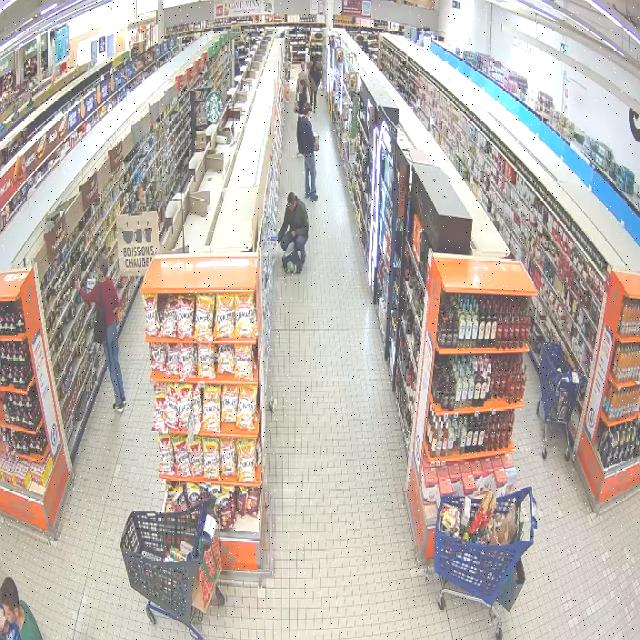article: (312, 131, 319, 147)
bags: (199, 537, 221, 611), (498, 561, 525, 611), (93, 284, 106, 344), (282, 251, 302, 273)
hands: (74, 278, 81, 291), (313, 142, 319, 151), (291, 231, 296, 237)
person: (75, 257, 126, 413), (0, 577, 41, 639), (279, 193, 309, 264), (300, 104, 318, 200), (309, 61, 321, 112), (297, 62, 308, 95)
